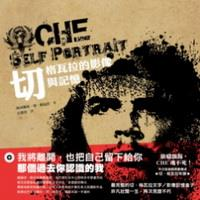Che_Guevara: (46, 45, 176, 172)
